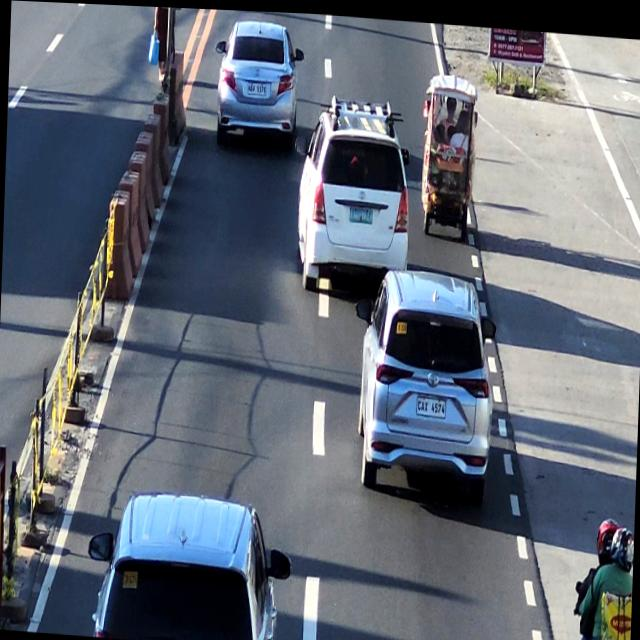Car: (364, 262, 495, 495), (96, 490, 284, 640), (294, 103, 410, 284), (210, 13, 302, 152)
License-Plate: (415, 389, 448, 414), (347, 199, 373, 225), (245, 79, 267, 94)
Motorcycle: (577, 513, 633, 640)
